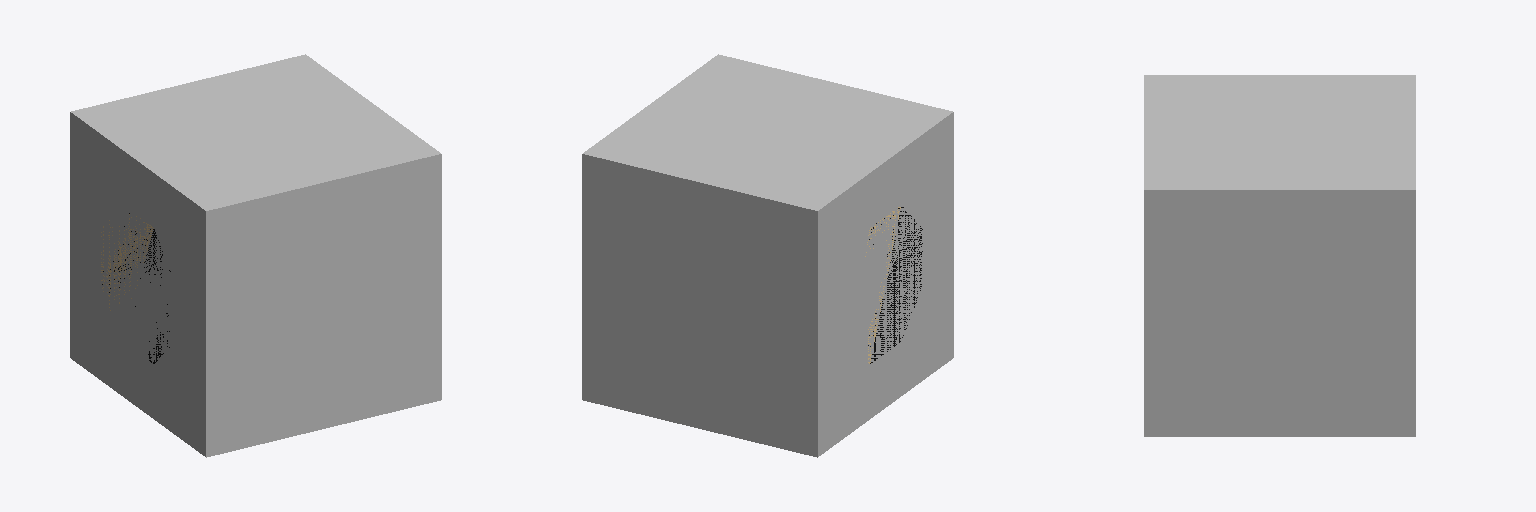
The picture shows the model from 3 angles: view 1: azimuth 30°, elevation 25°; view 2: azimuth 150°, elevation 25°; view 3: azimuth 270°, elevation 25°; orthographic projection.
Visible parts, largest first — view 1: Cube, Cylinder_Cylinder.001; view 2: Cube, Cylinder_Cylinder.001; view 3: Cube.
Part boxes in pixels (left/top/right/bottom): Cube: left=70, top=54, right=441, bottom=457; Cylinder_Cylinder.001: left=101, top=213, right=170, bottom=363; Cube: left=582, top=54, right=953, bottom=457; Cylinder_Cylinder.001: left=865, top=207, right=922, bottom=363; Cube: left=1144, top=75, right=1415, bottom=436.
Size of the model in its own units: 1 by 1 by 1.
Materials: 2 (1 with a texture image).